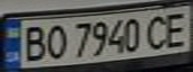0: (121, 15, 145, 53)
4: (106, 16, 127, 55)
7: (69, 19, 93, 58)
9: (90, 18, 112, 57)
B: (18, 24, 51, 63)
C: (142, 12, 172, 51)
E: (160, 9, 193, 50)
O: (42, 21, 69, 61)
